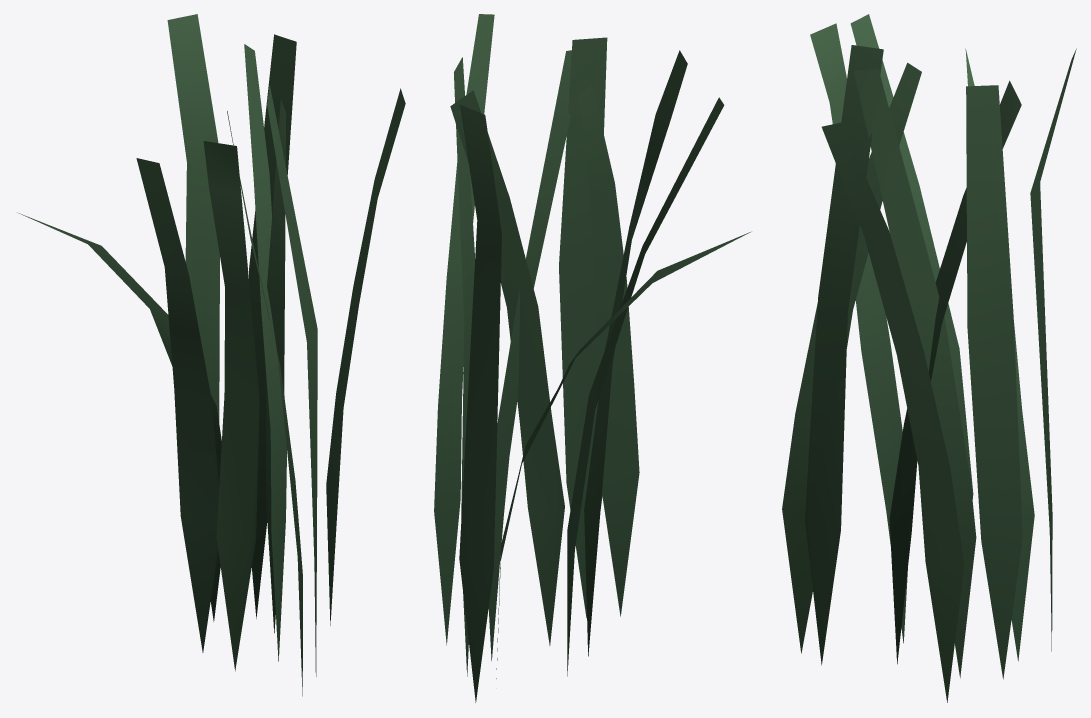
3 renders of one model, left to right at view 1: azimuth 30°, elevation 25°; view 2: azimuth 150°, elevation 25°; view 3: azimuth 270°, elevation 25°, orthographic. The views are drawn at different scales.
Parts seen in each view (by area): view 1: alt9.024; view 2: alt9.024; view 3: alt9.024.
Boxes of the visible parts, box(x1,y1,x2,y2) form: alt9.024: box(17, 14, 405, 696); alt9.024: box(434, 14, 751, 702); alt9.024: box(782, 14, 1076, 702).
Size of the model in its own units: 0.2902 by 0.5 by 0.2195.
